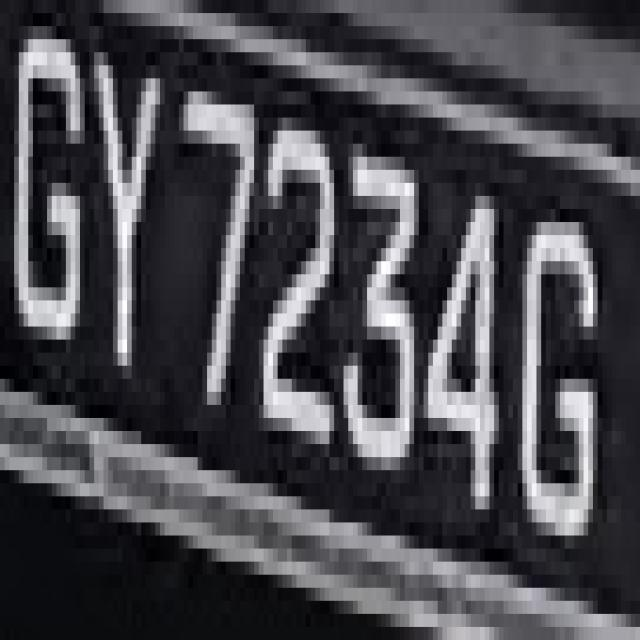2: (259, 104, 339, 510)
3: (325, 104, 419, 483)
4: (419, 144, 508, 562)
7: (174, 39, 268, 470)
G: (518, 156, 612, 574), (14, 39, 99, 366)
Y: (99, 13, 174, 405)
